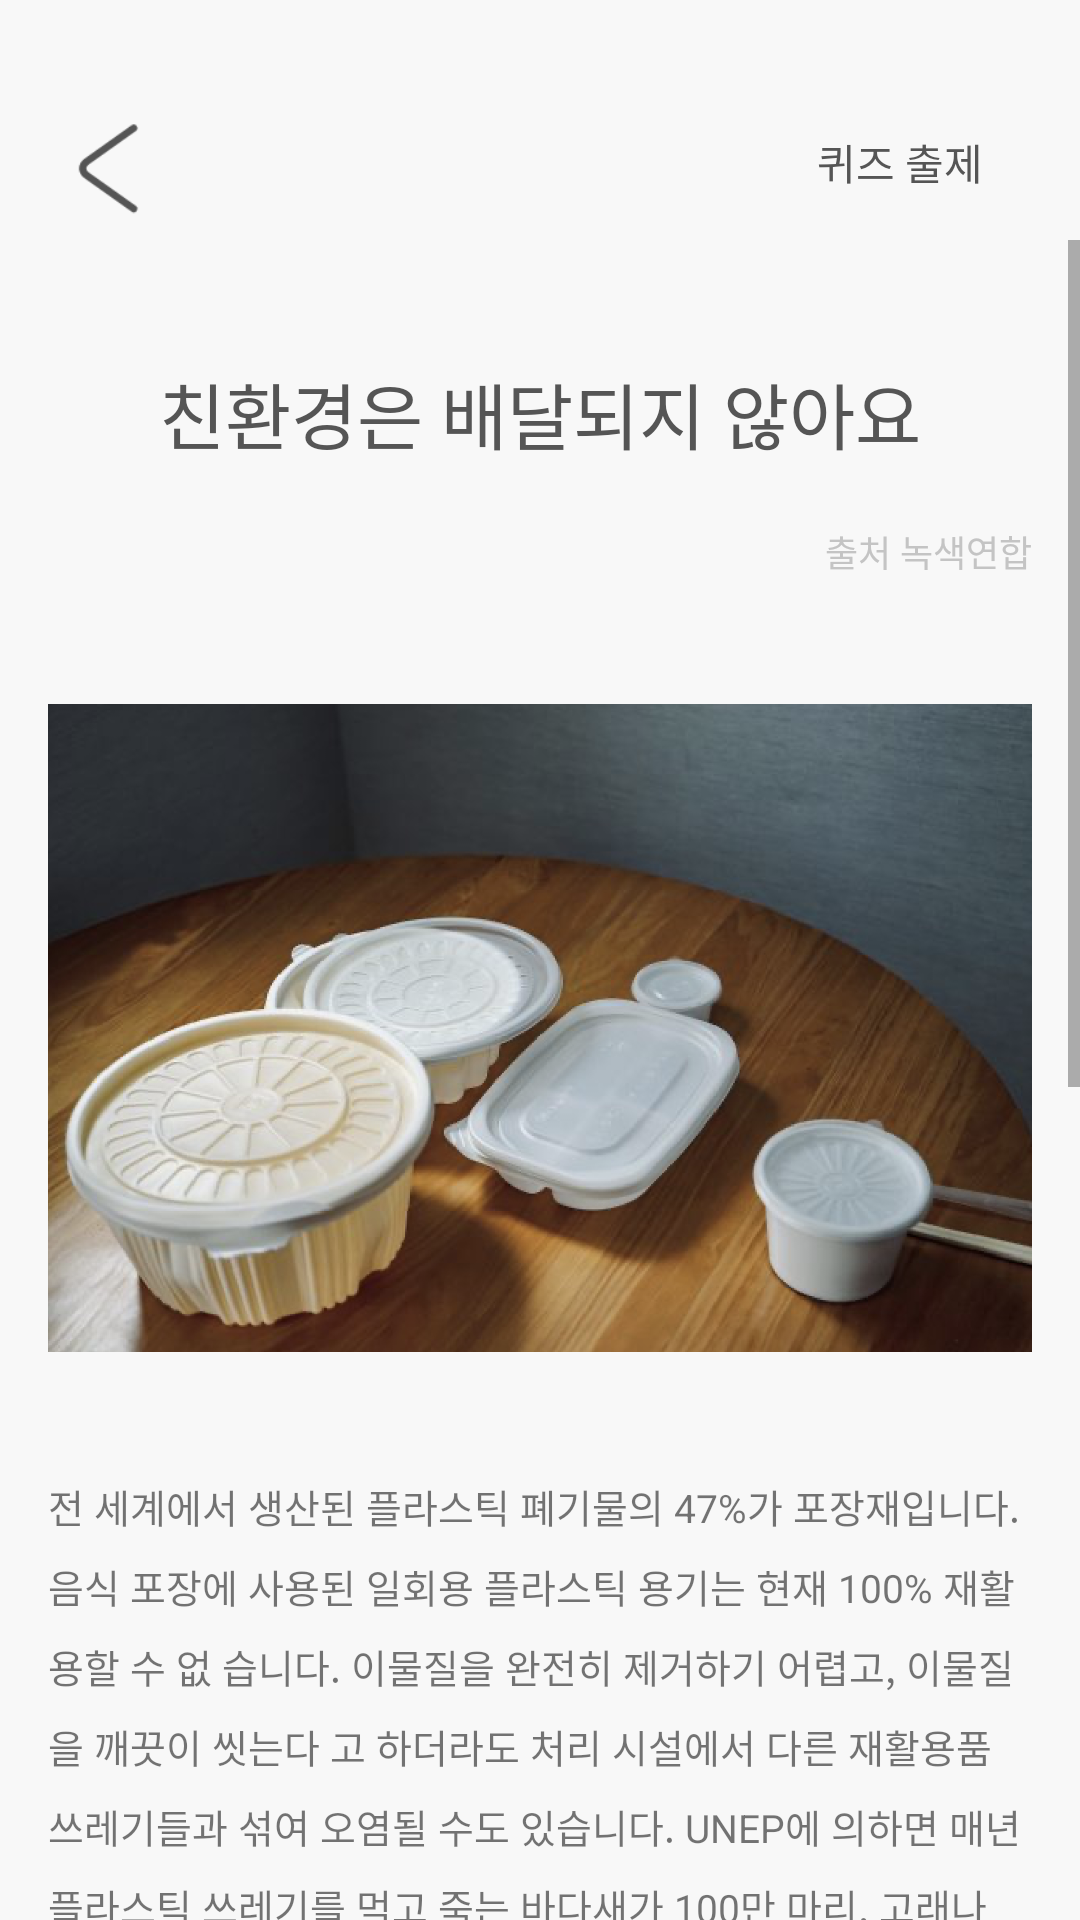

Named icons in this screenshot (1080w x 1920h) and their bounding boxes, (x1, y1, x2, y2):
back: (78, 124, 138, 213)
